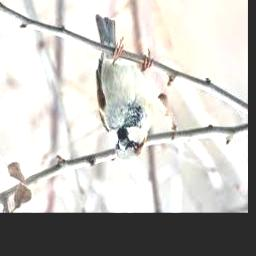Sparrow: (95, 15, 153, 161)
